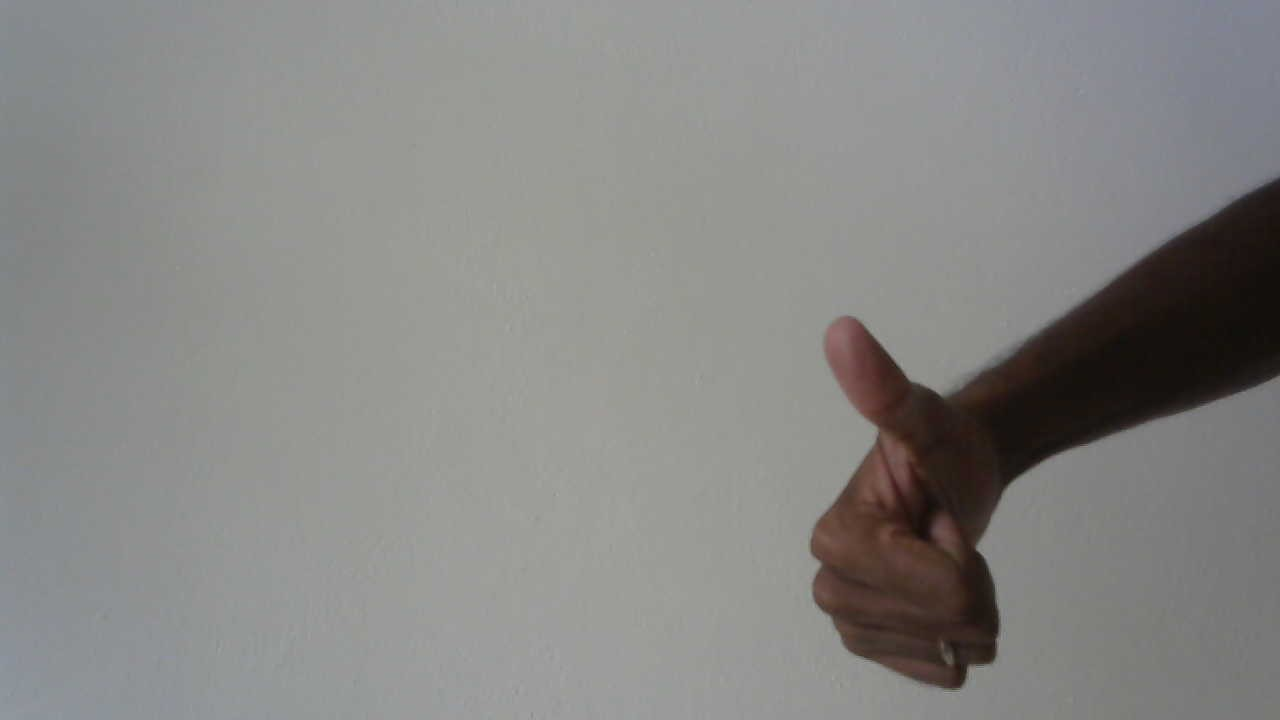thumbsup: (789, 302, 1038, 703)
